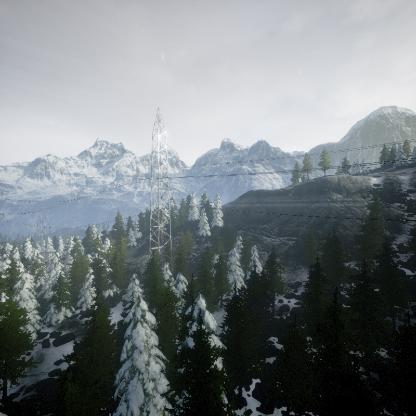tower: (138, 105, 178, 265)
